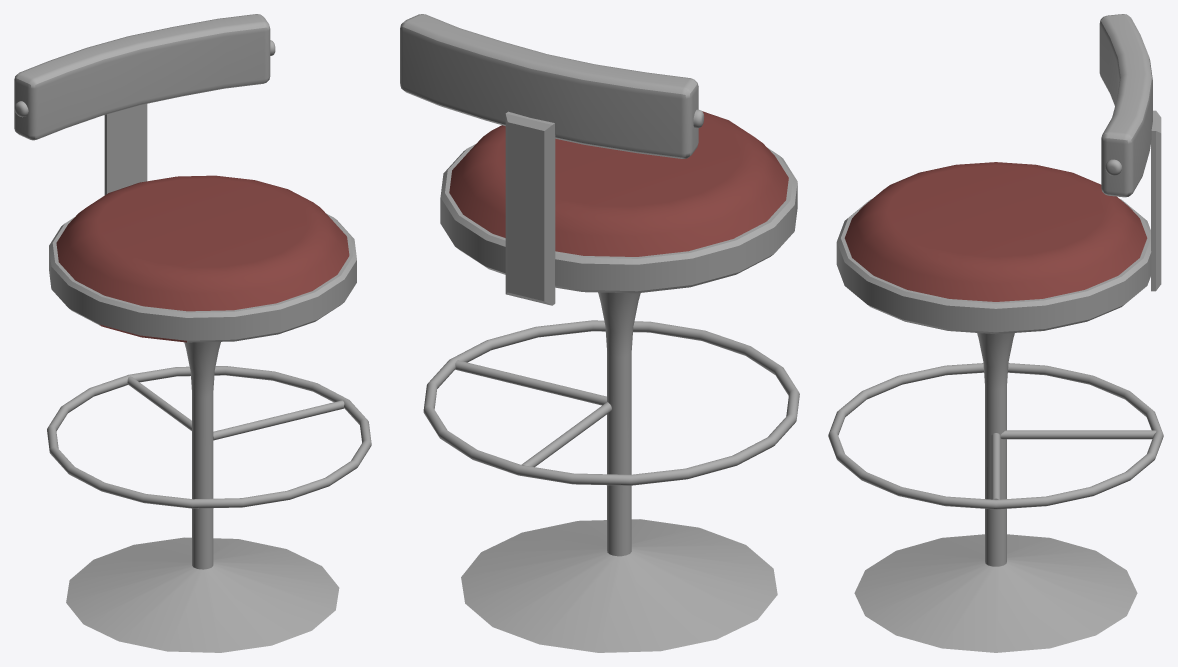
File: SM_Chaise.fbx
3 views of the same model, side by side, from view 1: azimuth 30°, elevation 25°; view 2: azimuth 150°, elevation 25°; view 3: azimuth 270°, elevation 25° (orthographic). The views are drawn at different scales.
Parts seen in each view (by area): view 1: Chaise; view 2: Chaise; view 3: Chaise.
Part boxes in pixels (left/top/right/bottom): Chaise: left=14, top=14, right=371, bottom=652; Chaise: left=400, top=14, right=799, bottom=652; Chaise: left=828, top=14, right=1163, bottom=652.
Size of the model in its own units: 58.63 by 100 by 58.63.
